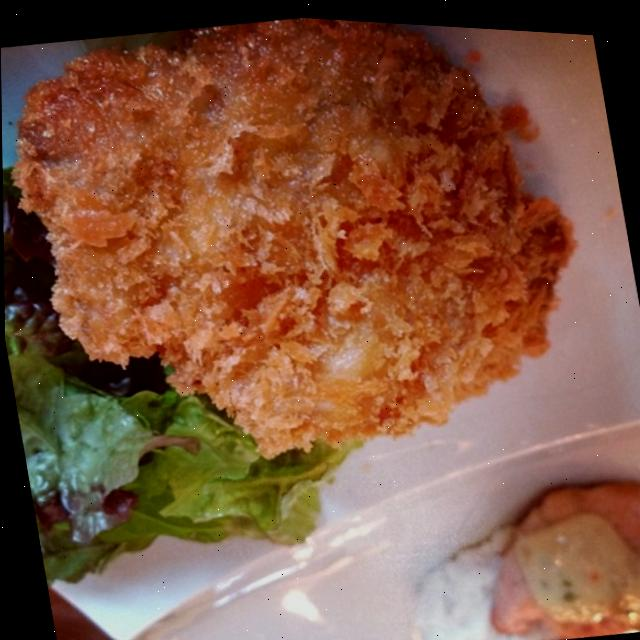牛肉菜式: (0, 0, 603, 509)
